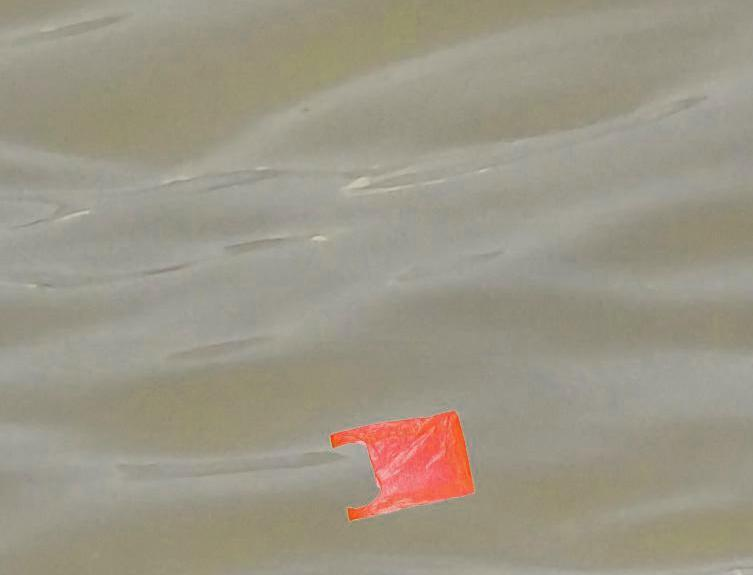Trash: (325, 407, 478, 522)
